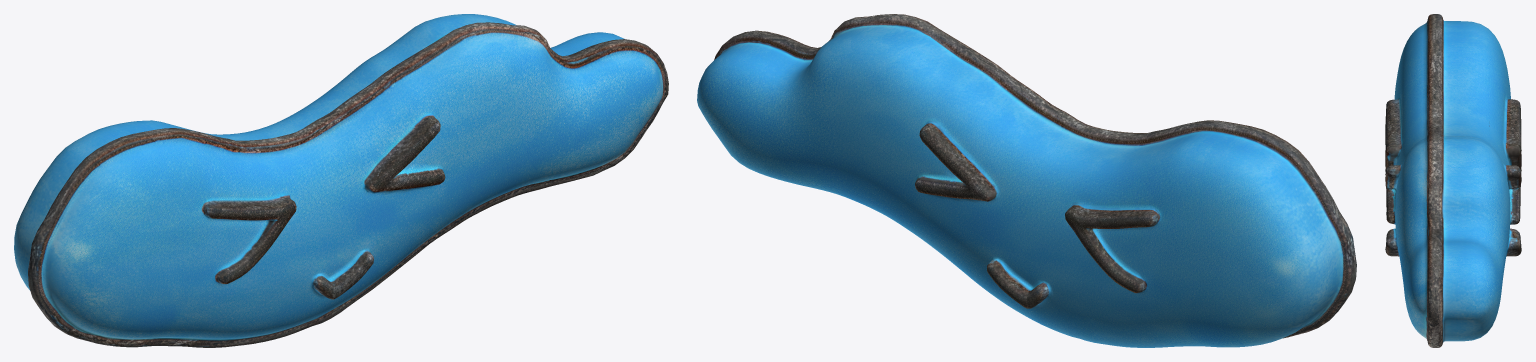
The model's file is cloud-blob.glb.
3 views of the same model, side by side, from view 1: azimuth 30°, elevation 25°; view 2: azimuth 150°, elevation 25°; view 3: azimuth 270°, elevation 25° (orthographic). The views are drawn at different scales.
Visible parts, largest first — view 1: tripo_node_530353b2-0d8f-4f98-a15b-e14c79a69591; view 2: tripo_node_530353b2-0d8f-4f98-a15b-e14c79a69591; view 3: tripo_node_530353b2-0d8f-4f98-a15b-e14c79a69591.
Part boxes in pixels (left/top/right/bottom): tripo_node_530353b2-0d8f-4f98-a15b-e14c79a69591: left=14, top=14, right=668, bottom=347; tripo_node_530353b2-0d8f-4f98-a15b-e14c79a69591: left=697, top=14, right=1356, bottom=347; tripo_node_530353b2-0d8f-4f98-a15b-e14c79a69591: left=1385, top=14, right=1521, bottom=347.
Bounding box in the file's own units: 0.979 × 0.3869 × 0.2118.
1 material, 1 textured.
